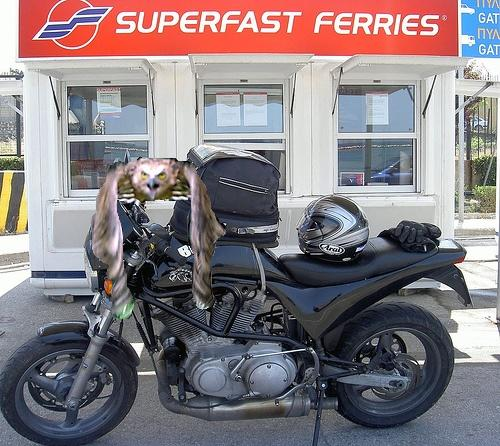tampered: (92, 158, 226, 319)
